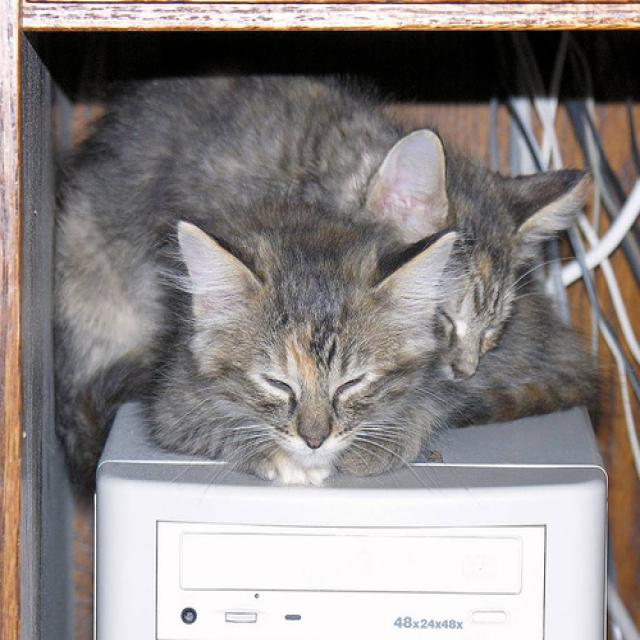left eye: (332, 371, 366, 398)
